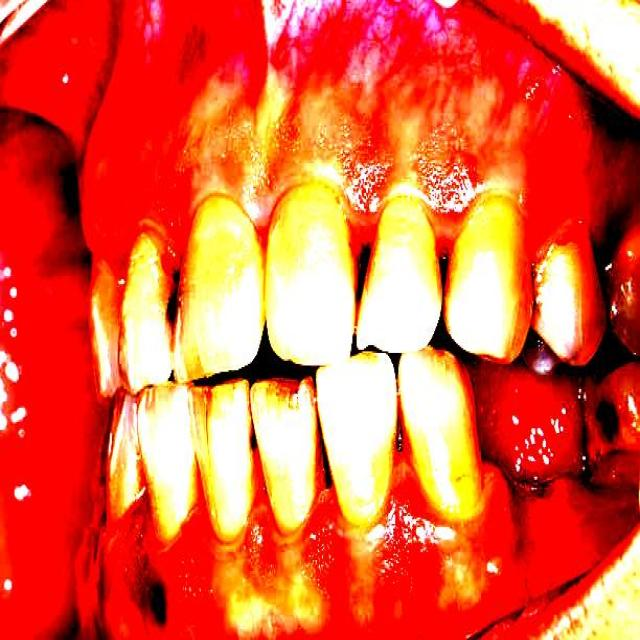caries: (155, 257, 198, 348)
